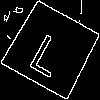L: (26, 24, 74, 79)
